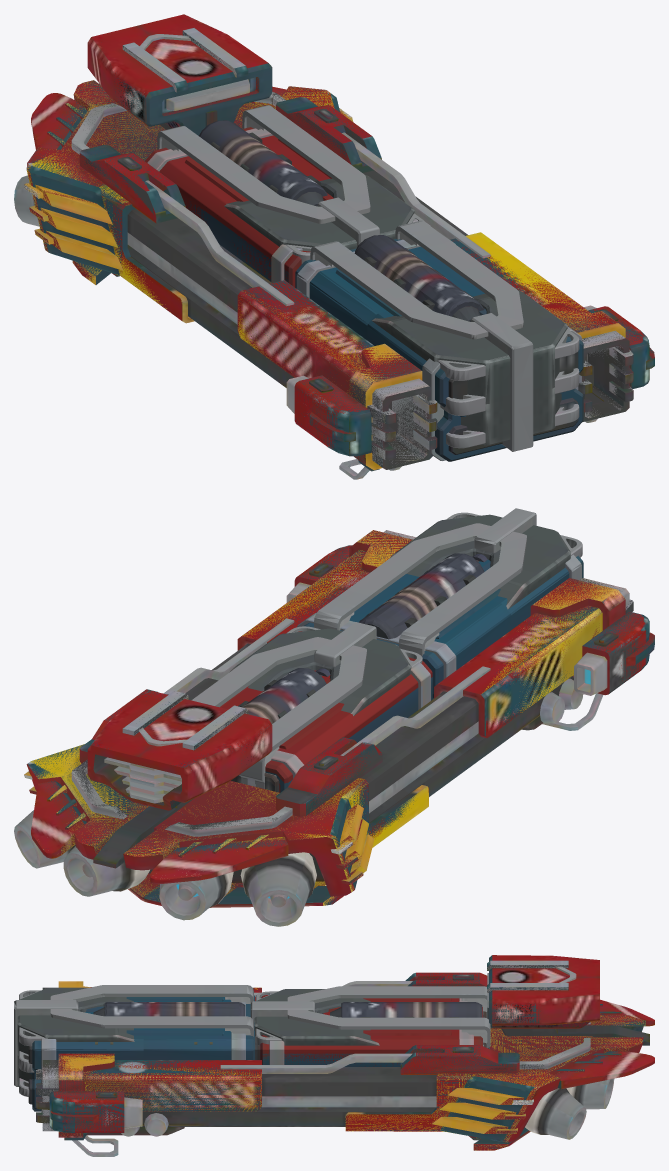
Rendered from forklift.glb.
3 views of the same model, one above another, from view 1: azimuth 30°, elevation 25°; view 2: azimuth 150°, elevation 25°; view 3: azimuth 270°, elevation 25° (orthographic). The views are drawn at different scales.
Parts seen in each view (by area): view 1: RedFlyingForklift, BlueFlyingForklift, prop_cargobox3.000, prop_cargobox3.023, YellowFlyingForklift, prop_cargobox5a.020, prop_cargobox5b.000, prop_cargobox5a.000; view 2: RedFlyingForklift, BlueFlyingForklift, YellowFlyingForklift, prop_cargobox3.000, prop_cargobox3.023, prop_cargobox5a.020, prop_cargobox5b.000, prop_cargobox5a.000; view 3: RedFlyingForklift, BlueFlyingForklift, YellowFlyingForklift, prop_cargobox3.000, prop_cargobox3.023, prop_cargobox5a.020, prop_cargobox5b.000, prop_cargobox5a.000.
Boxes of the visible parts, bbox=[...] form: RedFlyingForklift: bbox=[15, 14, 654, 479]; BlueFlyingForklift: bbox=[14, 31, 654, 479]; prop_cargobox3.000: bbox=[310, 220, 579, 451]; prop_cargobox3.023: bbox=[157, 105, 425, 263]; YellowFlyingForklift: bbox=[19, 32, 643, 479]; prop_cargobox5a.020: bbox=[295, 234, 583, 461]; prop_cargobox5b.000: bbox=[145, 127, 430, 287]; prop_cargobox5a.000: bbox=[185, 199, 288, 282]; RedFlyingForklift: bbox=[14, 530, 654, 926]; BlueFlyingForklift: bbox=[15, 530, 654, 922]; YellowFlyingForklift: bbox=[28, 530, 645, 914]; prop_cargobox3.000: bbox=[314, 508, 582, 656]; prop_cargobox3.023: bbox=[191, 622, 422, 788]; prop_cargobox5a.020: bbox=[297, 554, 583, 699]; prop_cargobox5b.000: bbox=[220, 631, 432, 792]; prop_cargobox5a.000: bbox=[231, 677, 432, 792]; RedFlyingForklift: bbox=[36, 955, 654, 1156]; BlueFlyingForklift: bbox=[36, 955, 649, 1156]; YellowFlyingForklift: bbox=[36, 965, 648, 1156]; prop_cargobox3.000: bbox=[14, 985, 253, 1096]; prop_cargobox3.023: bbox=[250, 986, 490, 1048]; prop_cargobox5a.020: bbox=[28, 995, 257, 1112]; prop_cargobox5b.000: bbox=[257, 991, 486, 1066]; prop_cargobox5a.000: bbox=[262, 1053, 400, 1066].
Size of the model in its own units: 3.24 by 1.75 by 7.31.
Materials: 2 (2 with a texture image).
